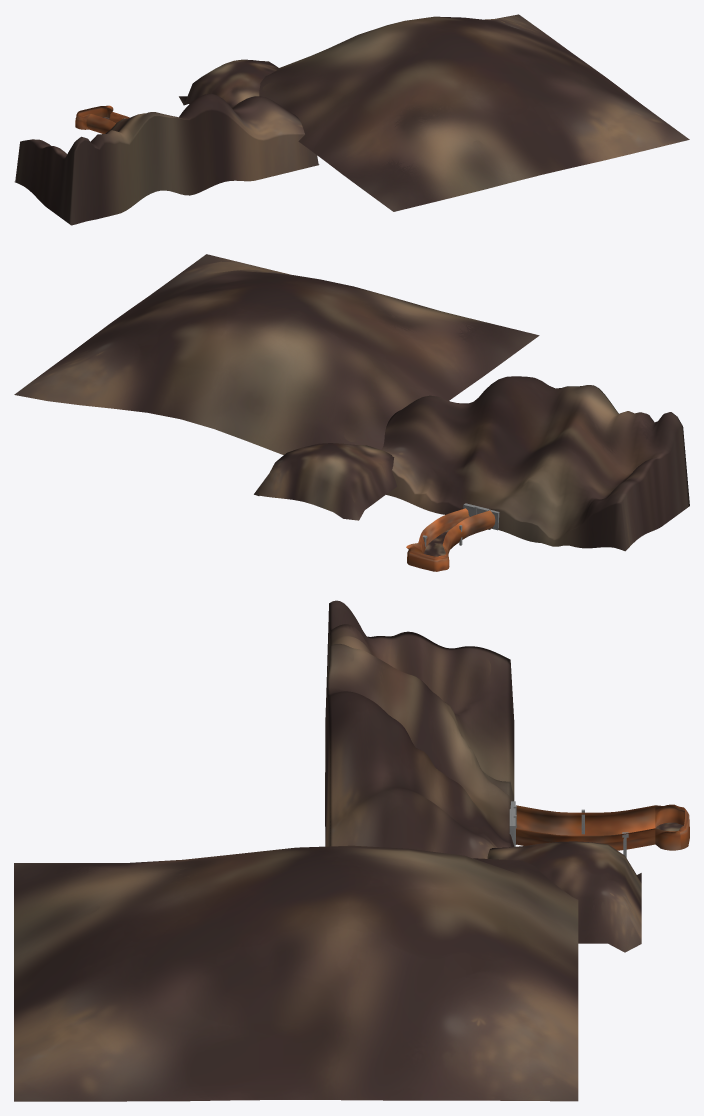
Rendered from map2.obj.
3 views of the same model, one above another, from view 1: azimuth 30°, elevation 25°; view 2: azimuth 150°, elevation 25°; view 3: azimuth 270°, elevation 25° (orthographic). The views are drawn at different scales.
Visible parts, largest first — view 1: pPlane4, pPlane5, pPlane3, pPlane1, pSphere1; view 2: pPlane4, pPlane5, pPlane3, pPlane1, pSphere1; view 3: pPlane4, pPlane5, pPlane3, pPlane1, pSphere1.
Boxes of the visible parts, <box> form: pPlane4: <box>259,14,689,211</box>; pPlane5: <box>14,93,319,225</box>; pPlane3: <box>179,59,279,107</box>; pPlane1: <box>86,112,129,133</box>; pSphere1: <box>75,105,113,129</box>; pPlane4: <box>14,254,539,454</box>; pPlane5: <box>381,376,689,551</box>; pPlane3: <box>254,443,397,520</box>; pPlane1: <box>418,508,495,554</box>; pSphere1: <box>406,543,449,571</box>; pPlane4: <box>14,845,578,1101</box>; pPlane5: <box>325,600,514,858</box>; pPlane3: <box>487,841,641,952</box>; pPlane1: <box>516,805,655,850</box>; pSphere1: <box>655,804,689,850</box>.
Size of the model in its own units: 158 by 30.99 by 107.
4 materials, 4 textured.
